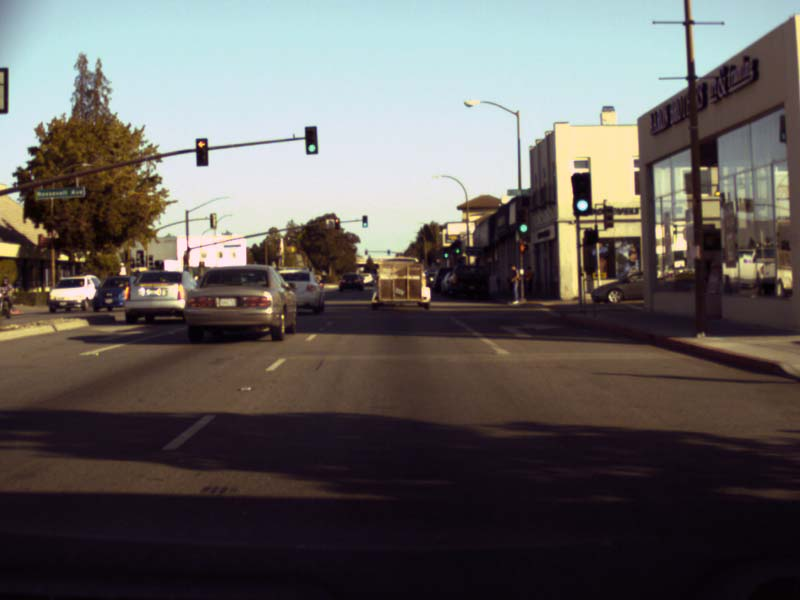Green: (572, 174, 591, 213), (305, 127, 317, 154), (518, 209, 527, 233), (454, 240, 460, 254), (361, 216, 368, 227), (443, 249, 448, 259)
Red: (196, 138, 207, 165), (333, 218, 339, 229)
